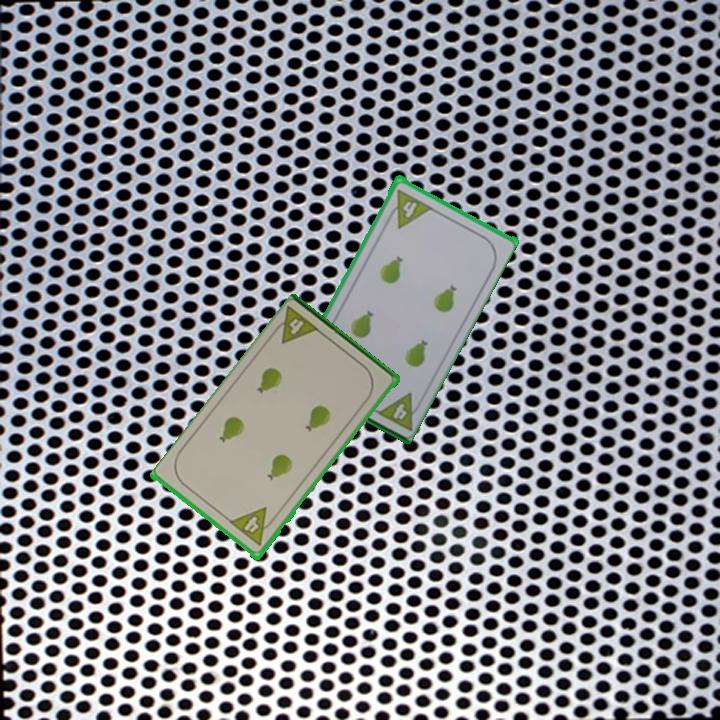4p: (267, 303, 323, 347), (227, 504, 279, 549), (397, 195, 433, 230), (389, 399, 410, 422)
